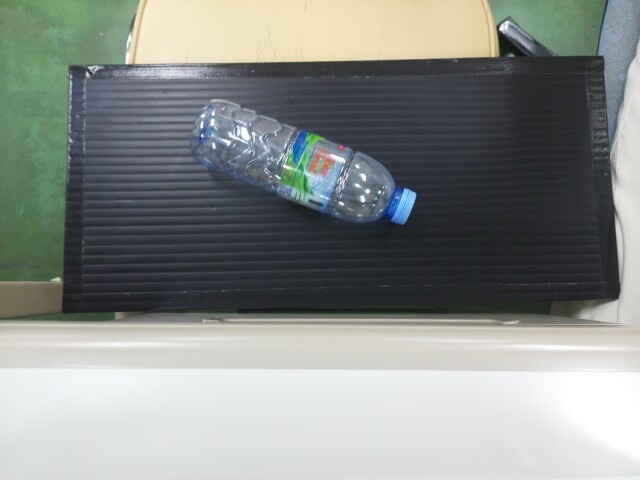plastic_bottle: (196, 101, 414, 221)
